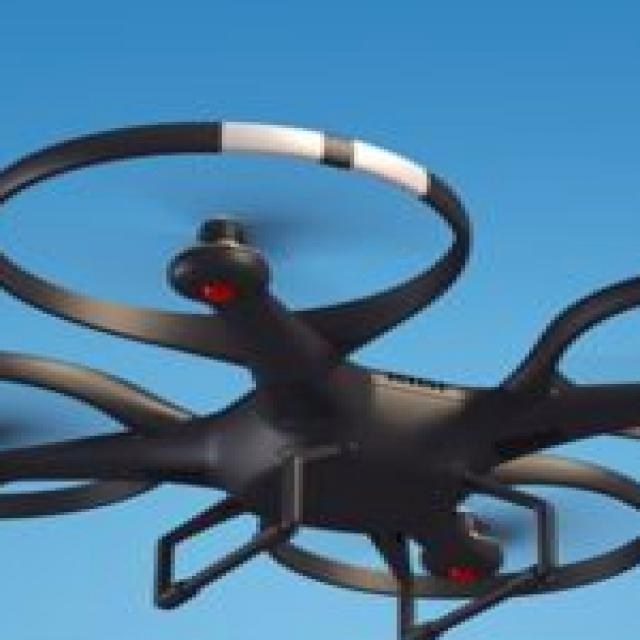drone: (0, 107, 640, 634)
